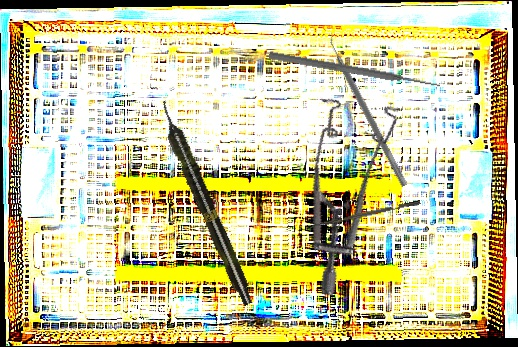Chopper: (307, 200, 422, 233)
Handpiece: (153, 98, 258, 308)
Pusher: (268, 50, 441, 91)
Spatula Surgical: (321, 30, 415, 188)
Speculum: (265, 77, 448, 299)
